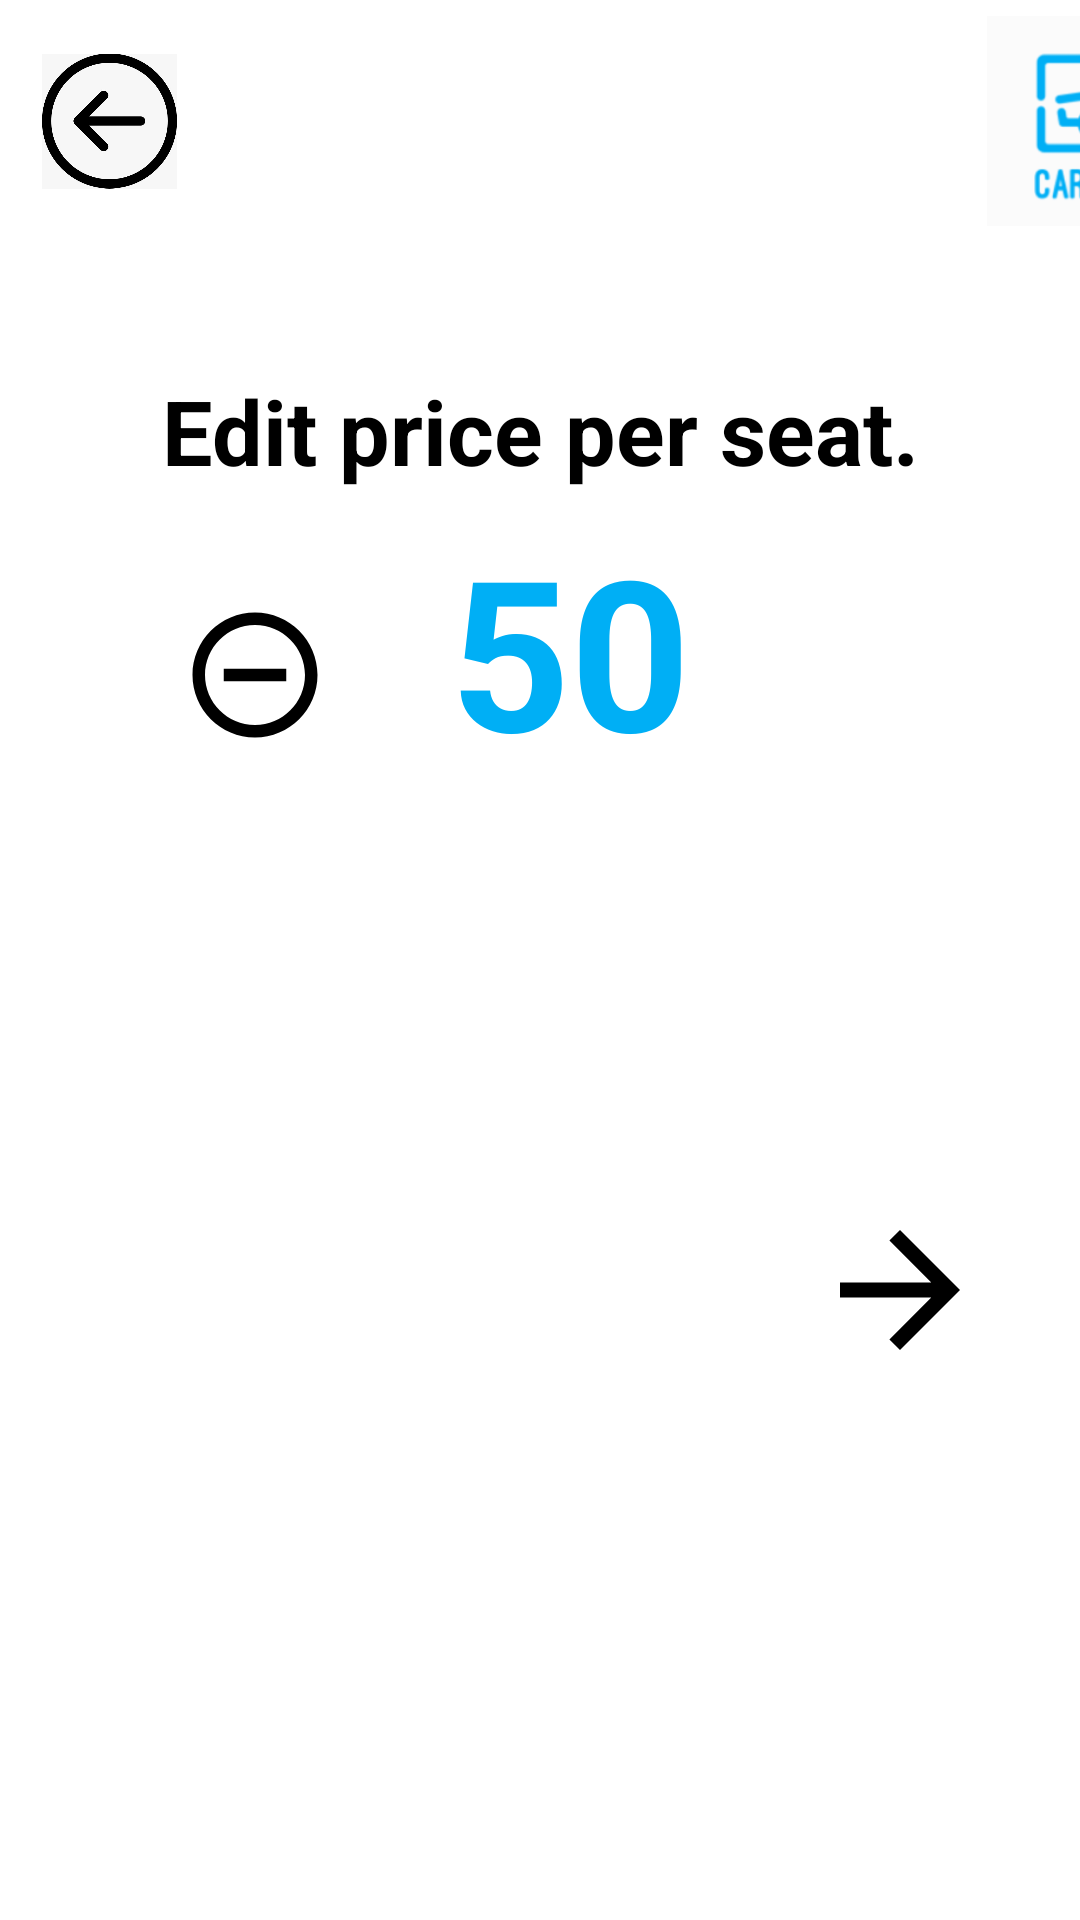

Named icons in this screenshot (1080w x 1920h) and their bounding boxes, (x1, y1, x2, y2):
minus: (192, 612, 318, 738)
next arrow: (840, 1230, 960, 1350)
